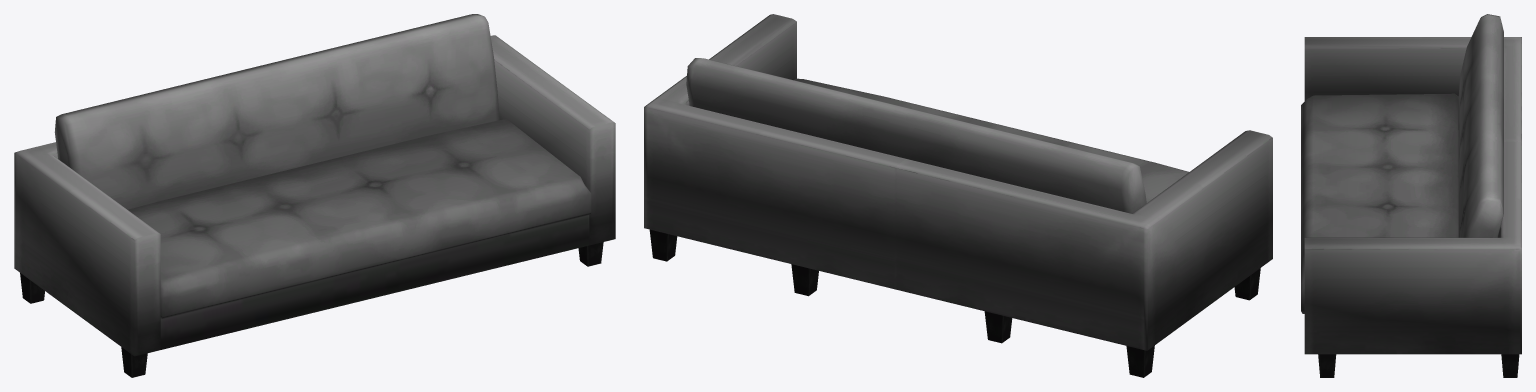
File: product_4.obj
The picture shows the model from 3 angles, left to right: view 1: azimuth 30°, elevation 25°; view 2: azimuth 150°, elevation 25°; view 3: azimuth 270°, elevation 25°; orthographic projection. The views are drawn at different scales.
Size of the model in its own units: 0.0654 by 0.0242 by 0.0288.
1 material, 1 textured.
